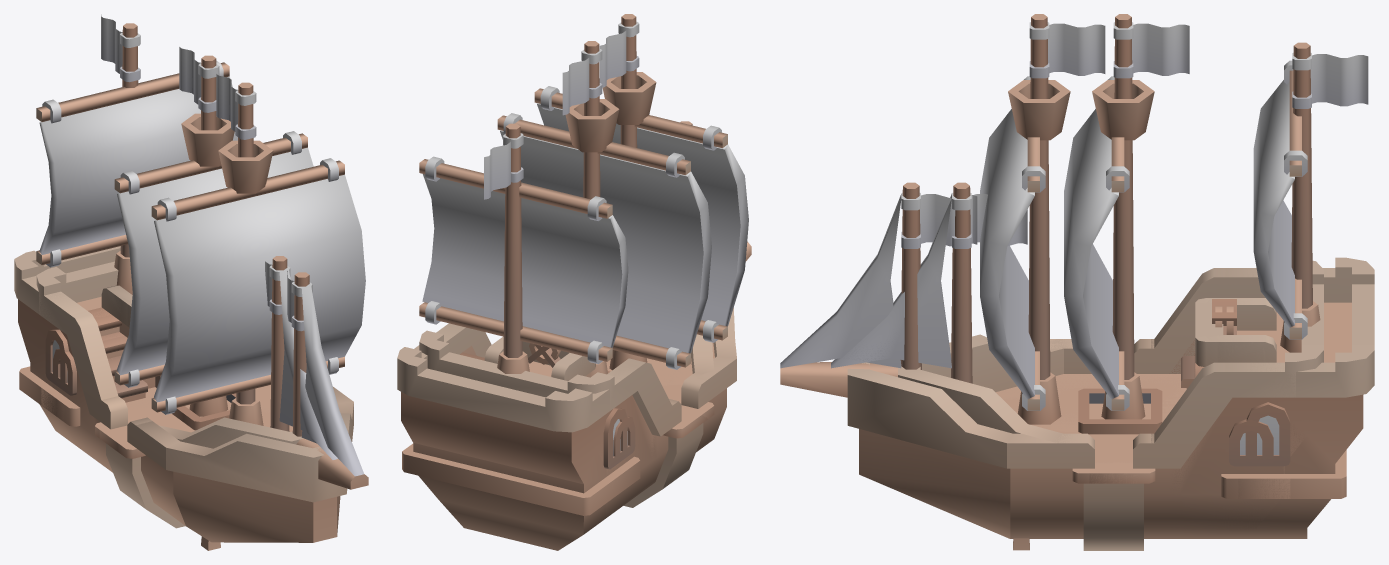
The model's file is kenney-ships.glb.
The picture shows the model from 3 angles, left to right: view 1: azimuth 30°, elevation 25°; view 2: azimuth 150°, elevation 25°; view 3: azimuth 270°, elevation 25°; orthographic projection. The views are drawn at different scales.
Parts seen in each view (by area): view 1: ship_medium, ship; view 2: ship_medium, ship; view 3: ship_medium, ship.
Boxes of the visible parts, bbox=[...] form: ship_medium: bbox=[14, 14, 368, 542]; ship: bbox=[36, 47, 337, 504]; ship_medium: bbox=[397, 14, 751, 550]; ship: bbox=[419, 41, 714, 518]; ship_medium: bbox=[780, 14, 1374, 550]; ship: bbox=[831, 14, 1323, 550].
Bounding box in the file's own units: 4.8 × 9.96 × 10.6.
